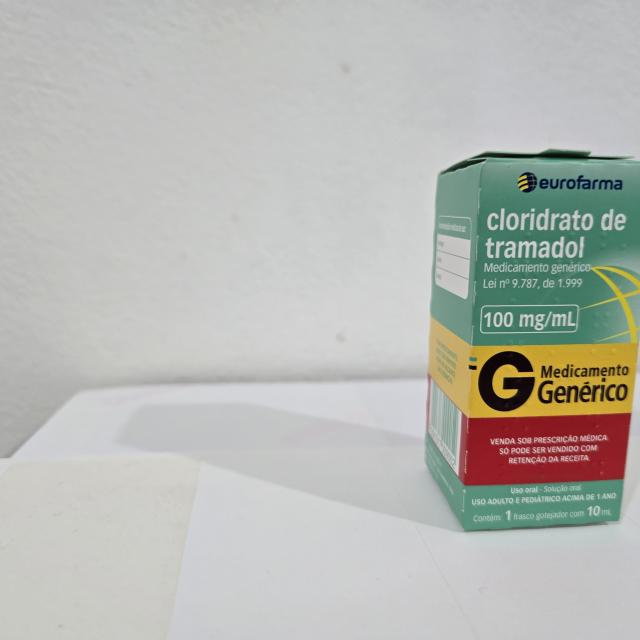tramadol: (424, 143, 640, 540)
